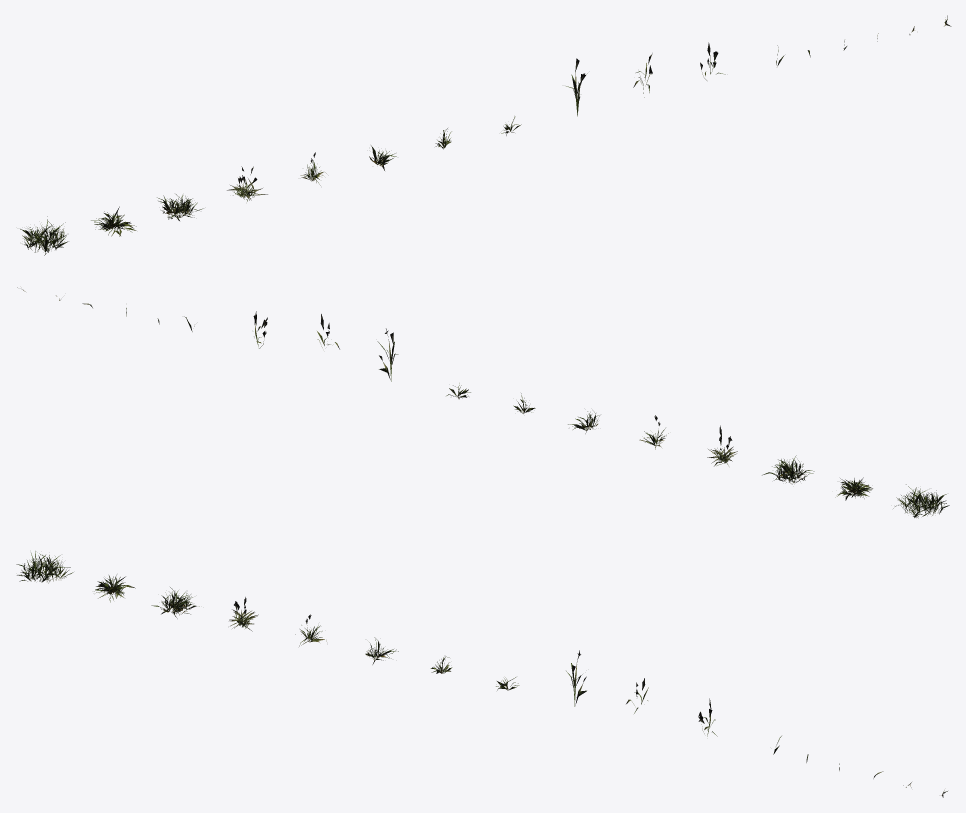
File: grass_medium_01.glb
3 views of the same model, one above another, from view 1: azimuth 30°, elevation 25°; view 2: azimuth 150°, elevation 25°; view 3: azimuth 330°, elevation 25° (orthographic).
Parts seen in each view (by area): view 1: grass_medium_01_large_a_LOD0, grass_medium_01_large_c_LOD0; view 2: grass_medium_01_large_a_LOD0, grass_medium_01_large_c_LOD0; view 3: grass_medium_01_large_a_LOD0.
Part boxes in pixels (left/top/right/bottom): grass_medium_01_large_a_LOD0: left=20, top=216, right=68, bottom=255; grass_medium_01_large_c_LOD0: left=157, top=194, right=203, bottom=220; grass_medium_01_large_a_LOD0: left=893, top=484, right=949, bottom=518; grass_medium_01_large_c_LOD0: left=762, top=455, right=814, bottom=484; grass_medium_01_large_a_LOD0: left=16, top=551, right=73, bottom=583.
Bounding box in the file's own units: 5.6 × 0.338 × 0.3266.
Materials: 1 (1 with a texture image).
